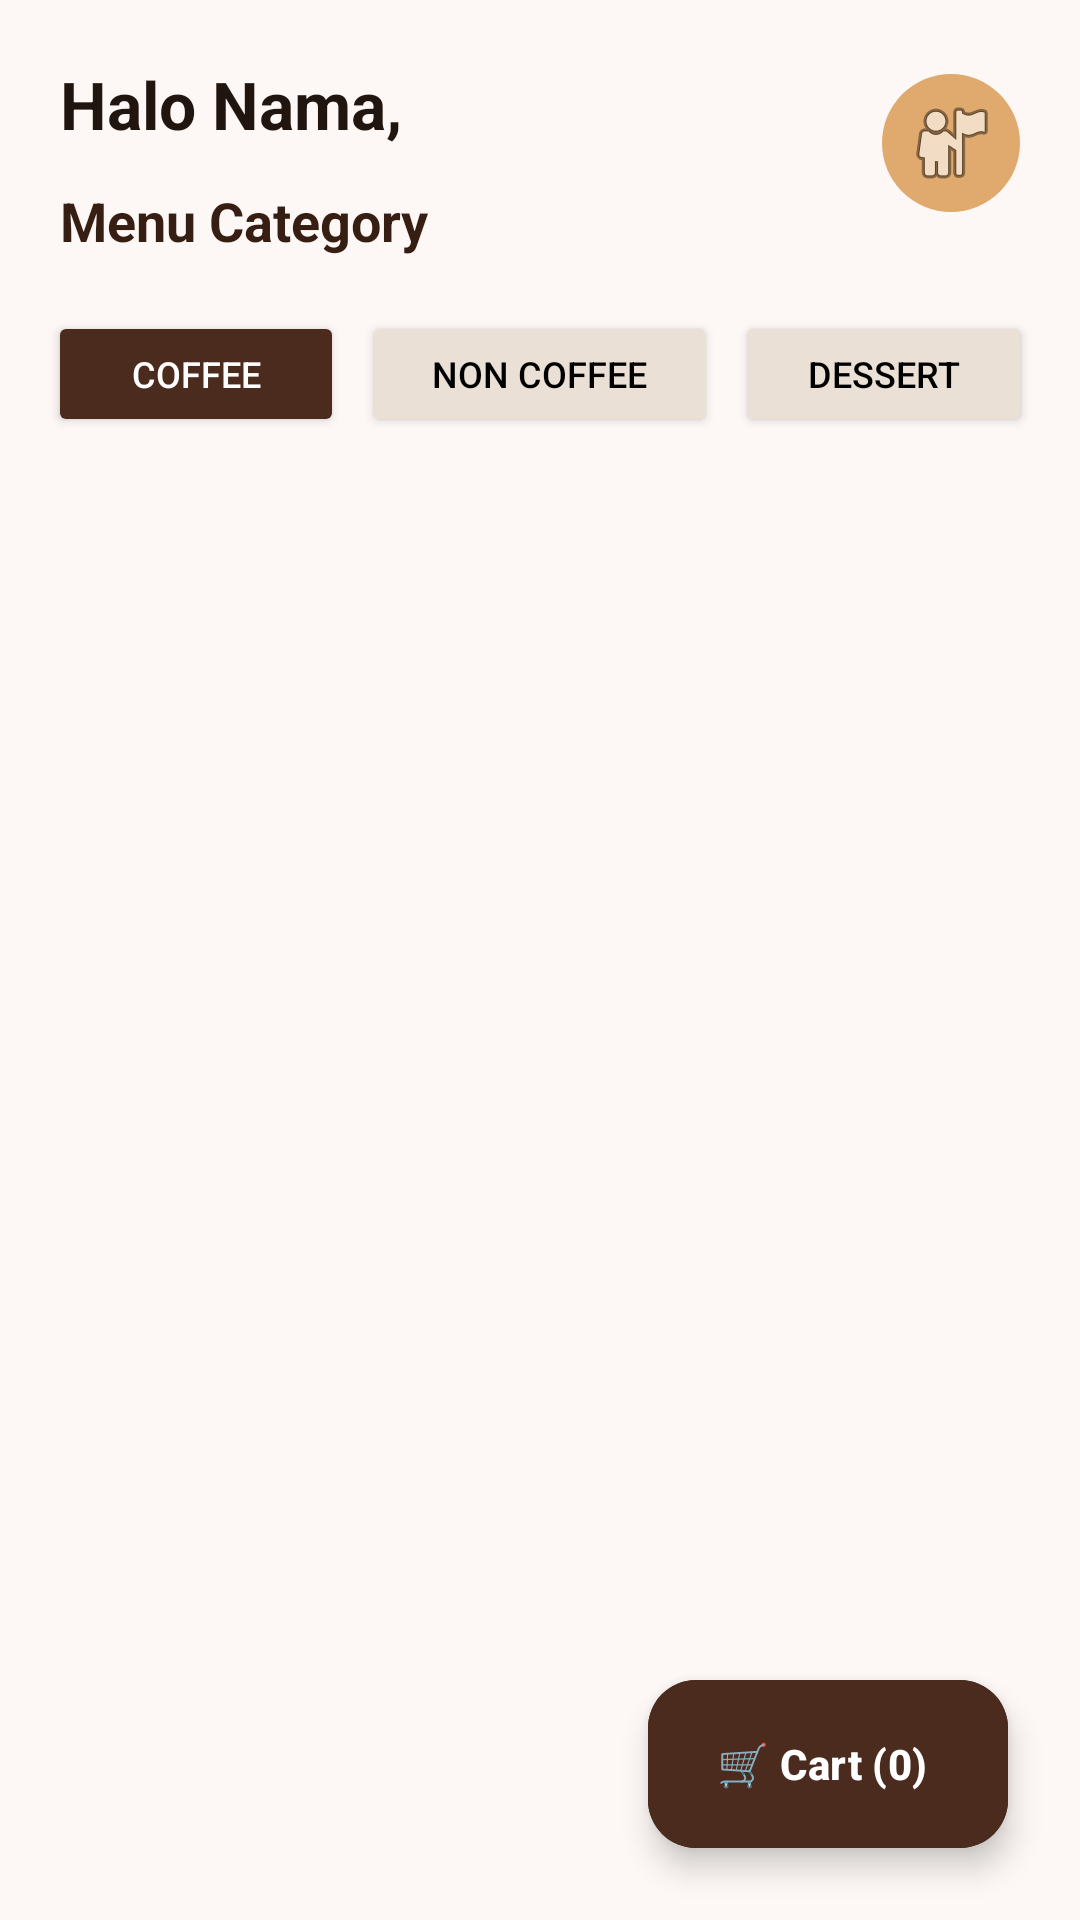

Icon bounding boxes for this 1080 × 1920 phone screenshot, format (x1=x1, y1=y1, x2=x2, y2=y2):
Profile: (x1=882, y1=74, x2=1020, y2=212)
